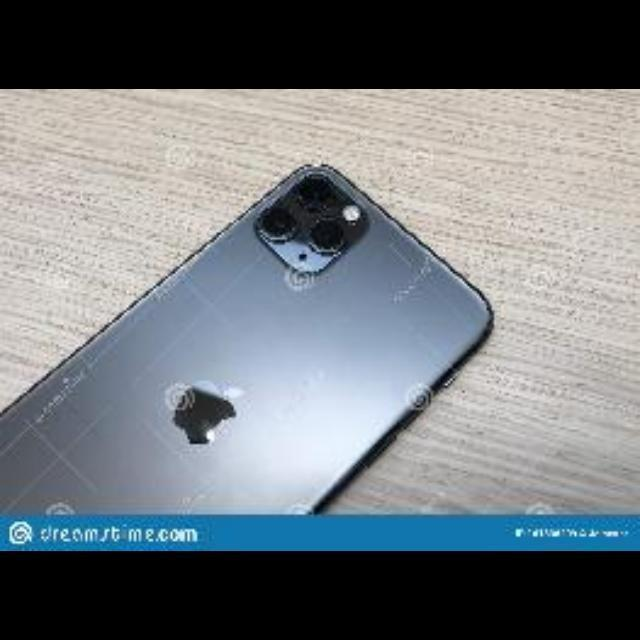PhoneUse: (2, 166, 494, 514)
